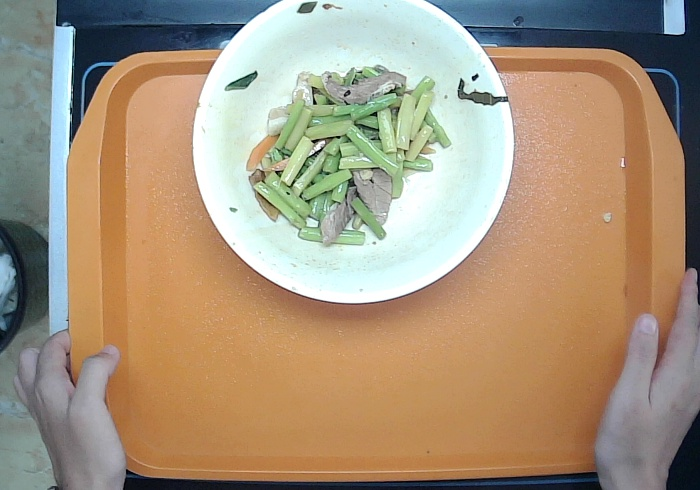ZNLD-Da_Tang_Wan: (189, 1, 516, 307)
